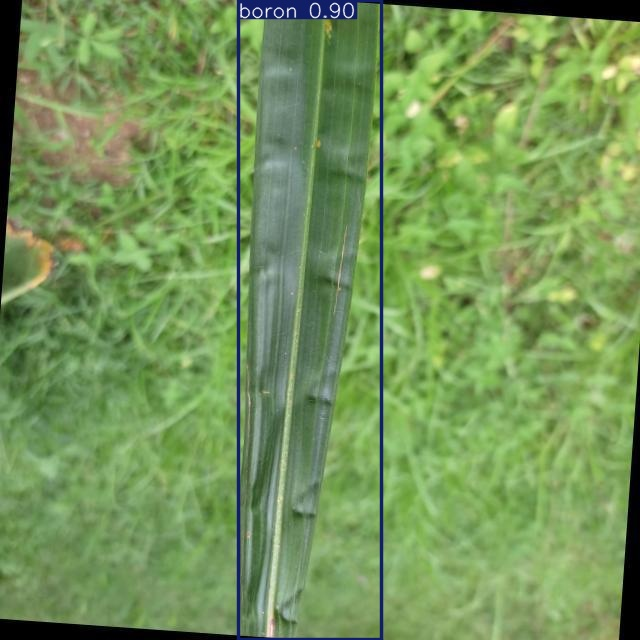nitrogen: (239, 1, 381, 640)
